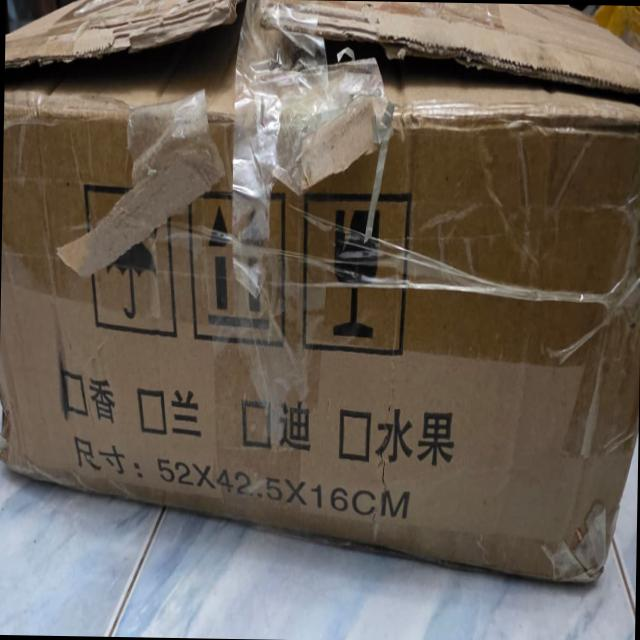carton_box: (0, 0, 640, 605)
fragile_label: (299, 178, 417, 364)
keep_dry_label: (82, 182, 188, 346)
package_damage: (3, 17, 640, 156), (0, 352, 25, 490)
this_side_up_label: (182, 191, 292, 360)
